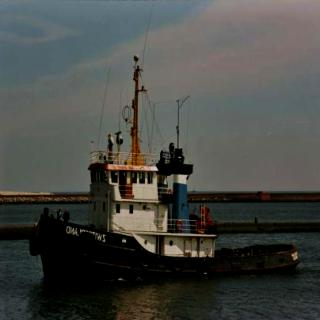Tug Boat: (20, 39, 302, 278)
